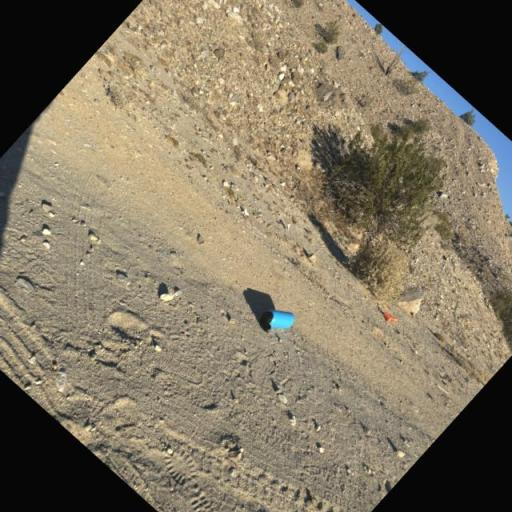bottle: (253, 298, 298, 342)
mallet: (375, 302, 404, 332)
